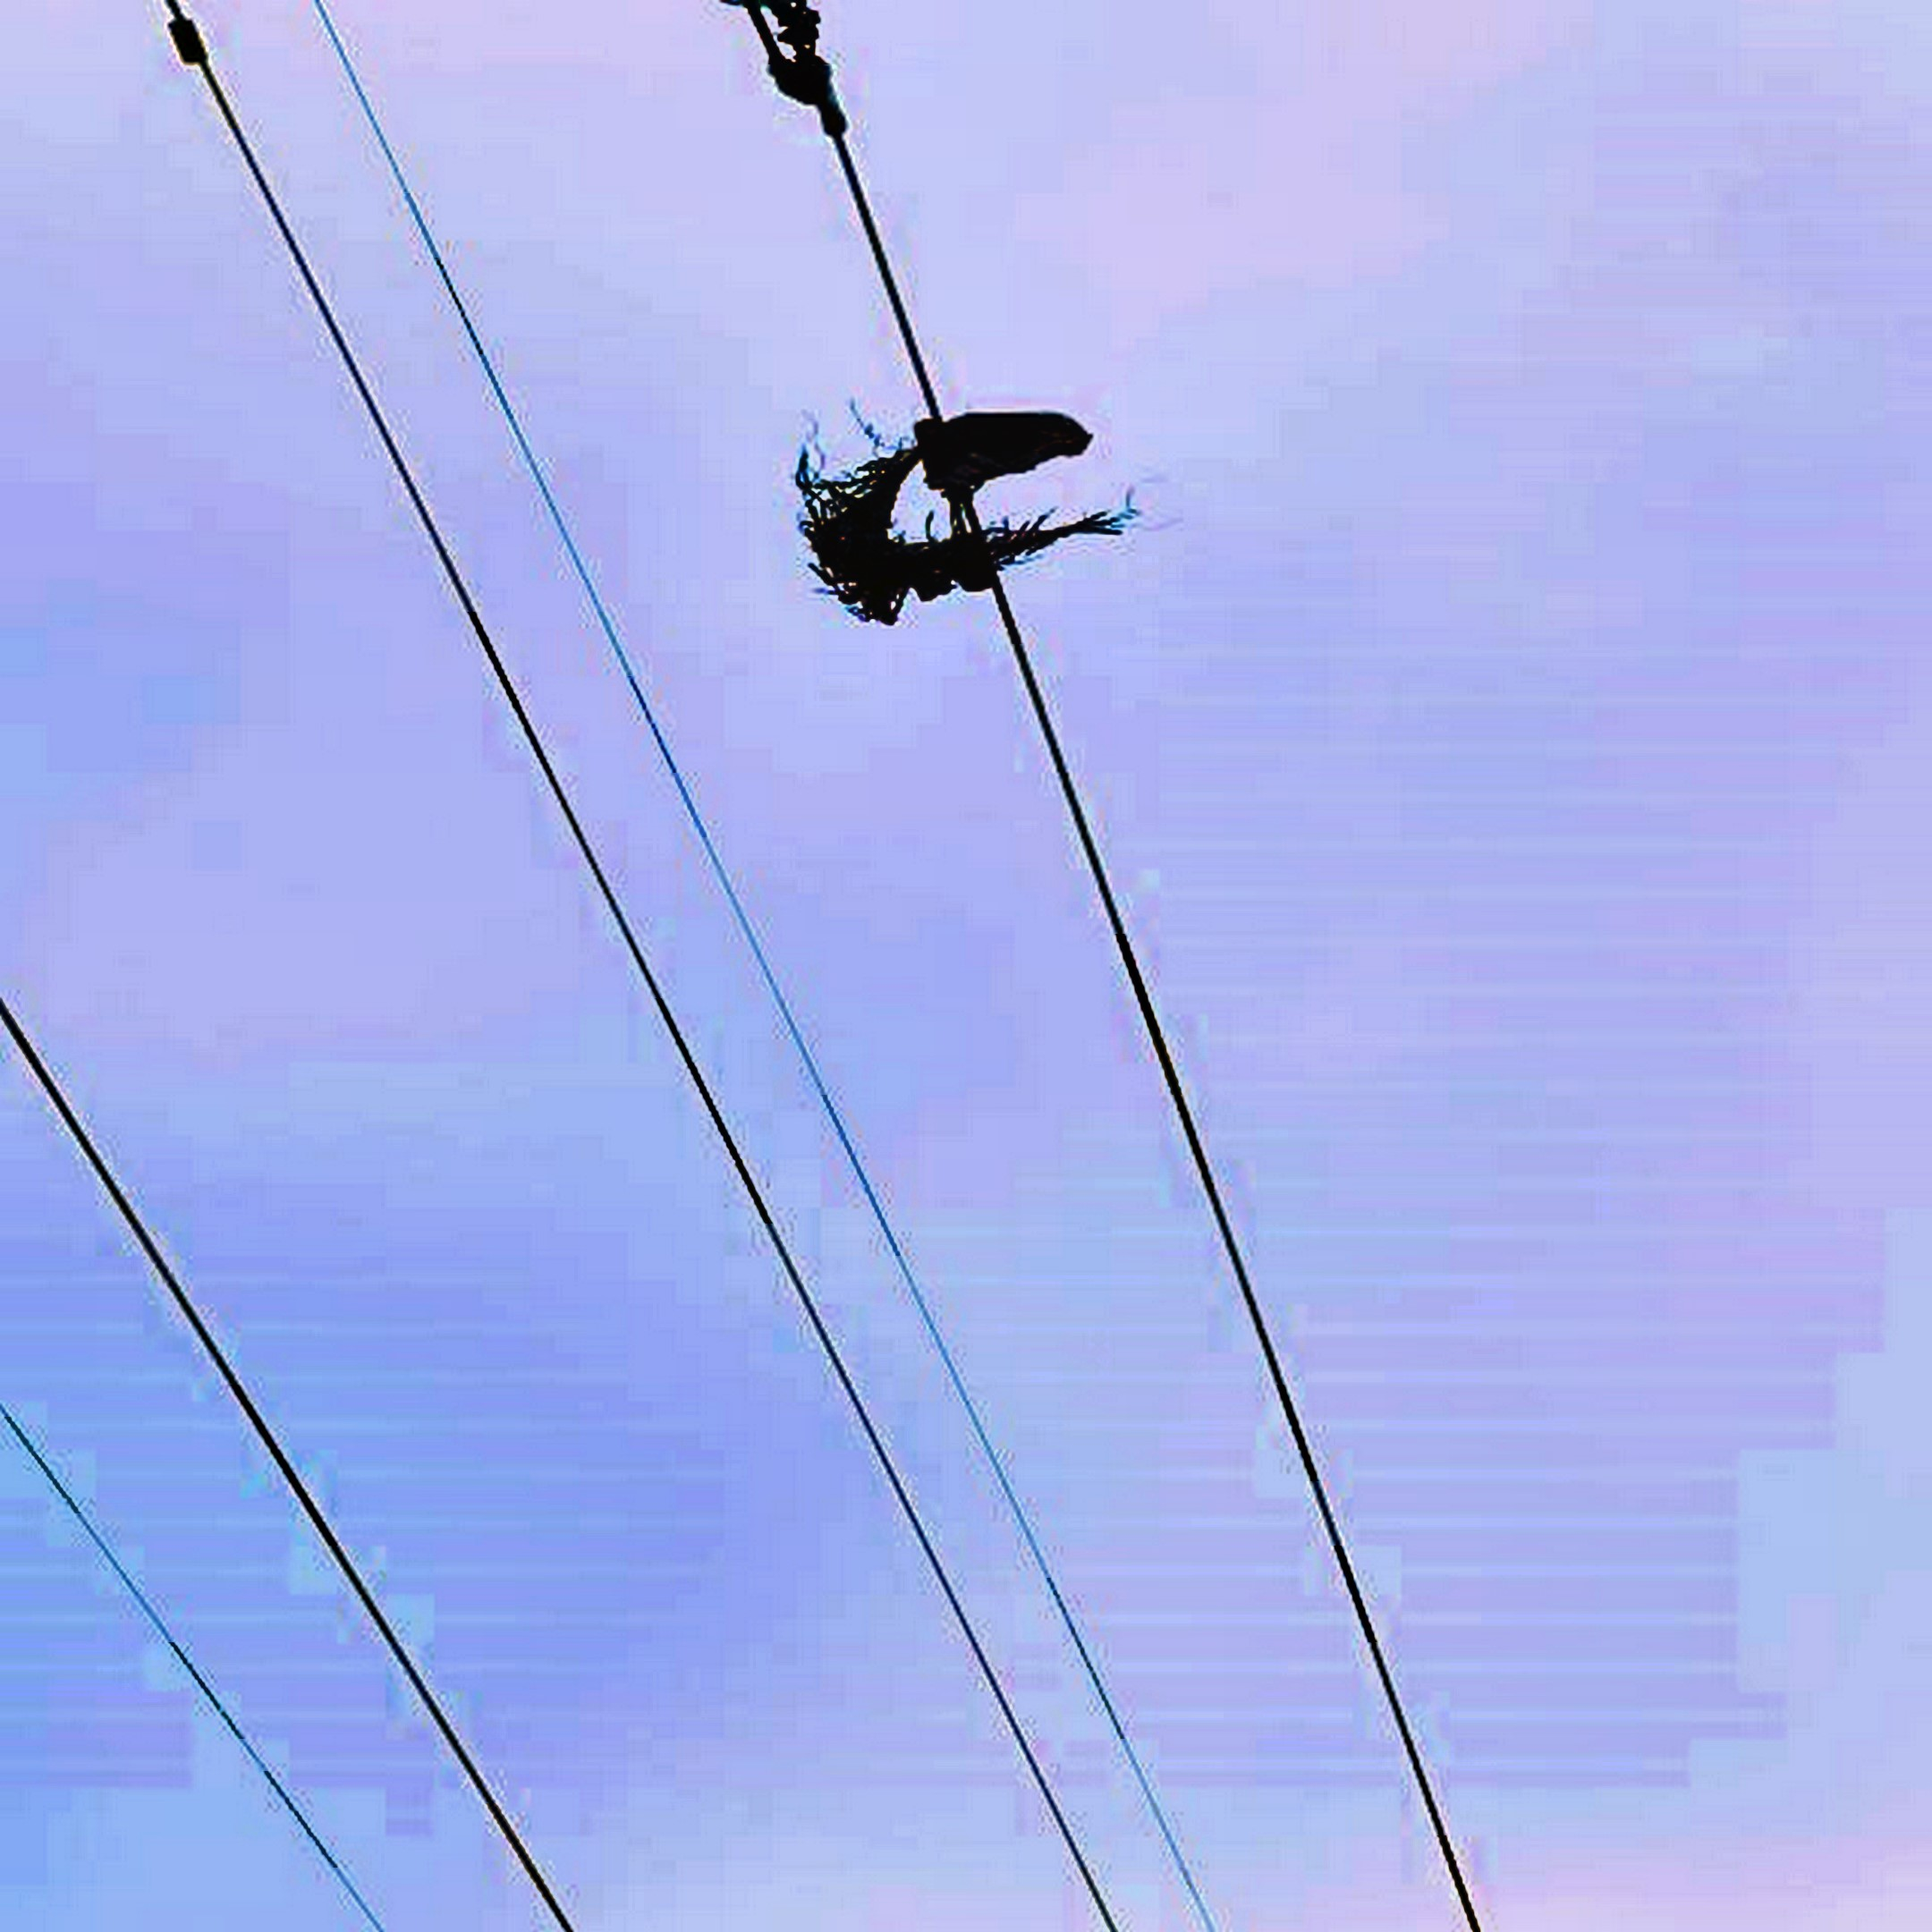wire foreign body: (757, 380, 1178, 656)
